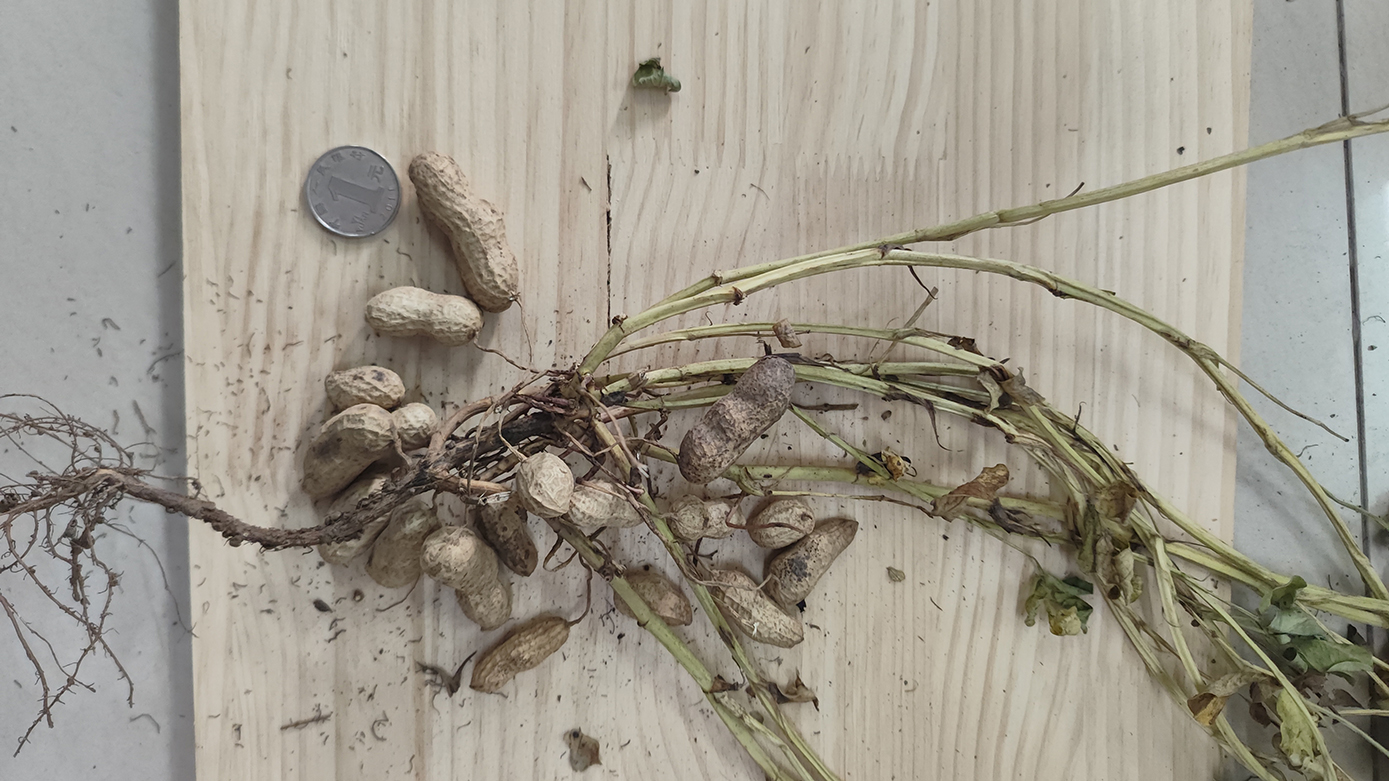h: (407, 150, 517, 315), (421, 526, 511, 632), (301, 403, 395, 495), (764, 519, 864, 605), (317, 470, 406, 563), (469, 617, 570, 691), (365, 286, 485, 345), (714, 574, 807, 648), (367, 504, 439, 587), (611, 573, 693, 629), (476, 502, 538, 576), (566, 478, 650, 528), (324, 365, 406, 415), (518, 452, 572, 520), (667, 498, 744, 544), (749, 499, 815, 546), (390, 403, 438, 447)
l: (678, 355, 794, 484)
